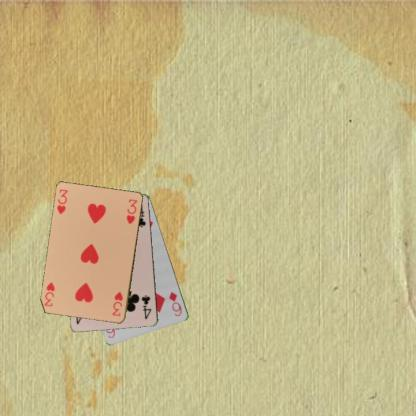3h: (54, 187, 70, 216), (110, 290, 124, 317)
4c: (139, 292, 153, 321)
6d: (166, 289, 184, 318)
